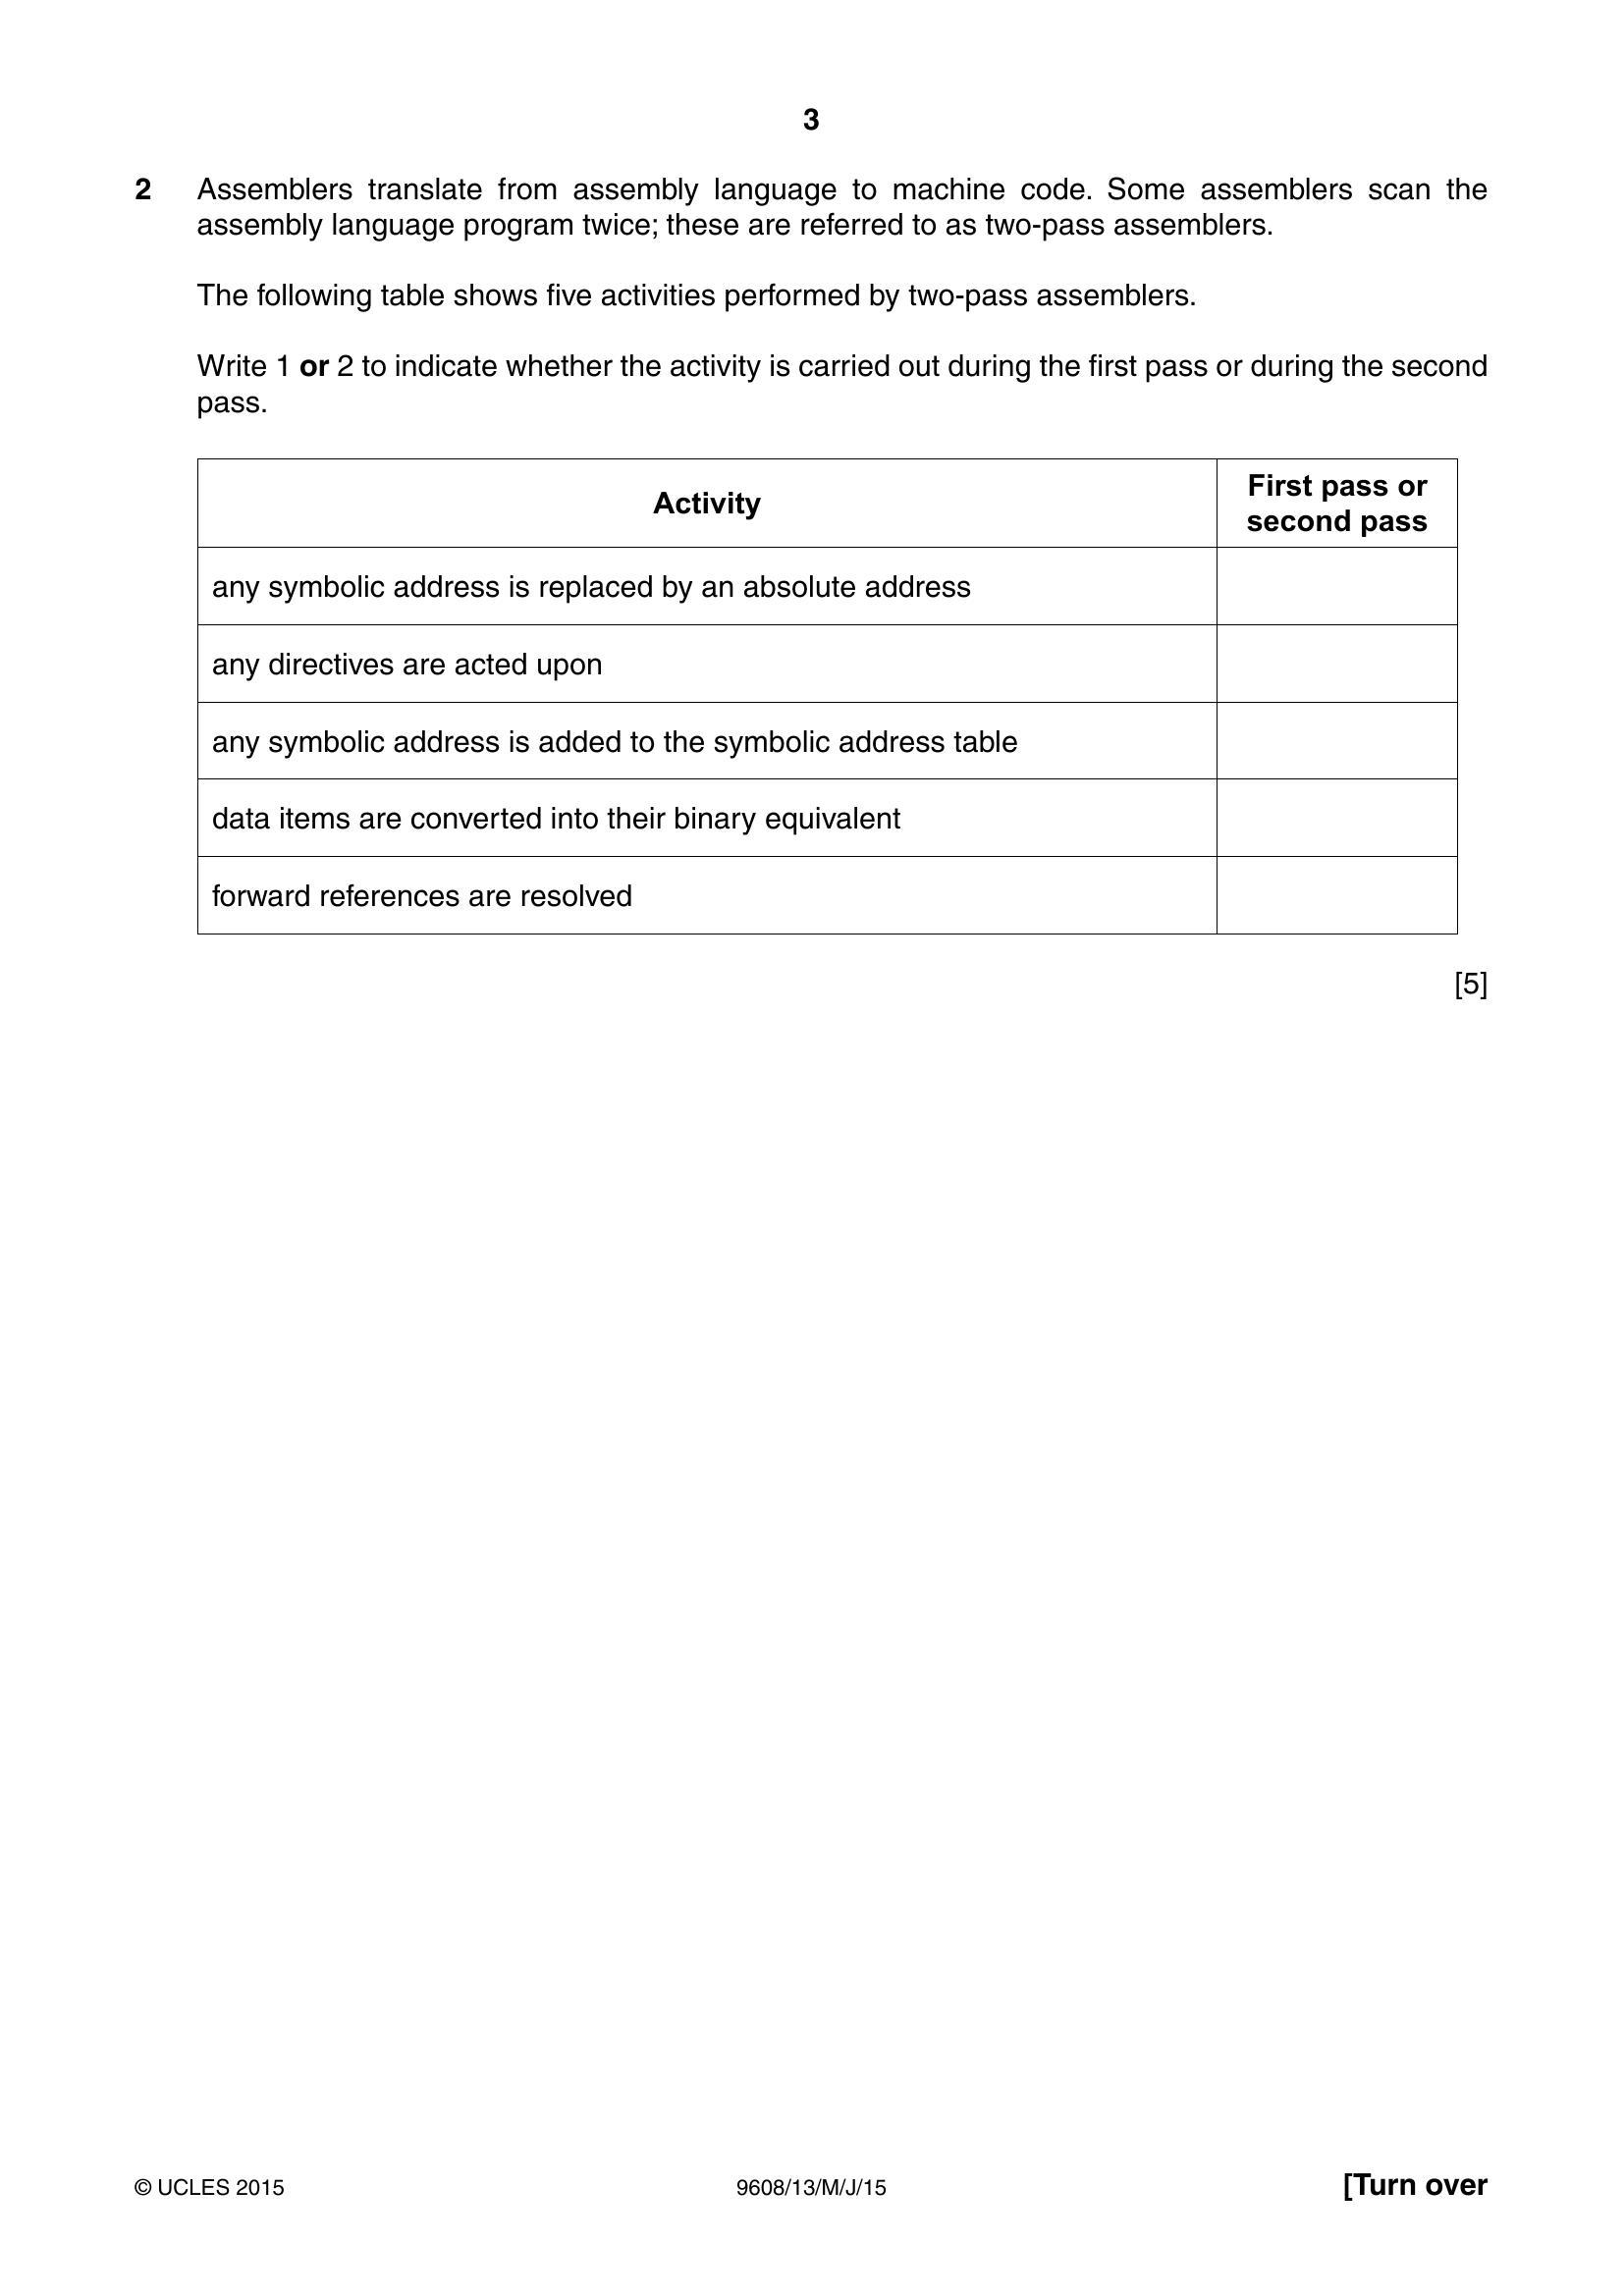question: (5, 132, 1624, 1105)
